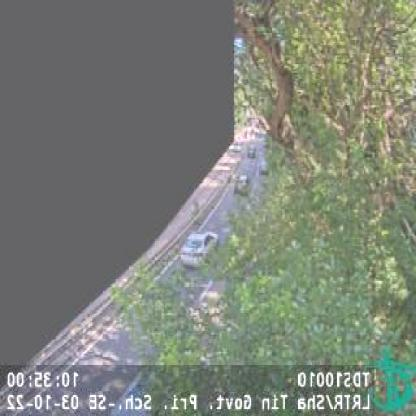Car: (180, 229, 218, 263)
